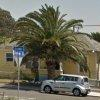Car: (36, 66, 96, 100)
